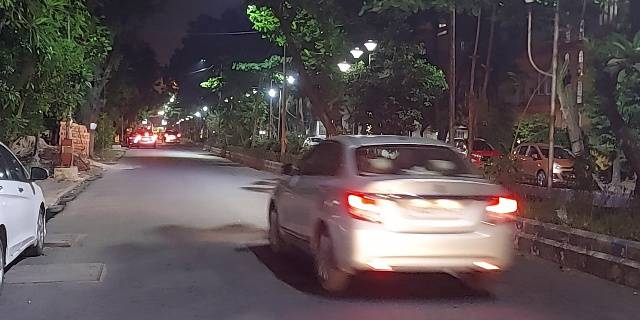Car: (268, 135, 516, 292)
